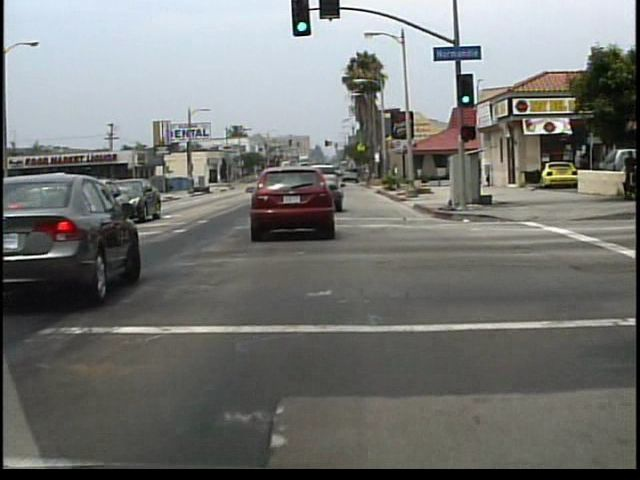person: (575, 152, 592, 195)
